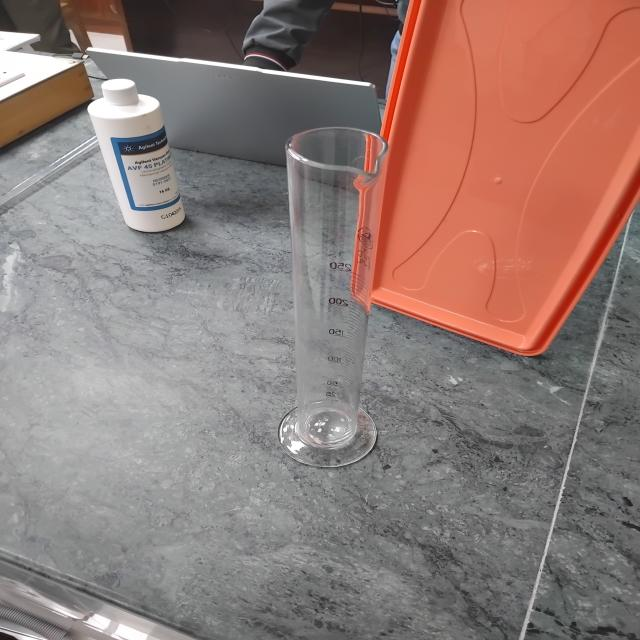Measuring_Cylinder: (254, 102, 407, 497)
